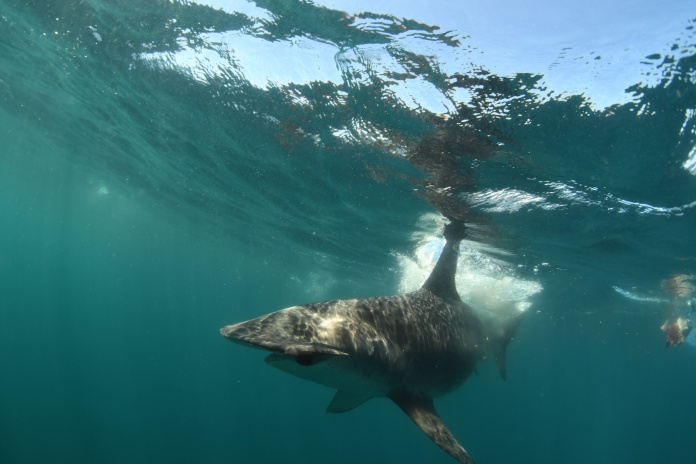Hammer: (195, 202, 555, 464)
